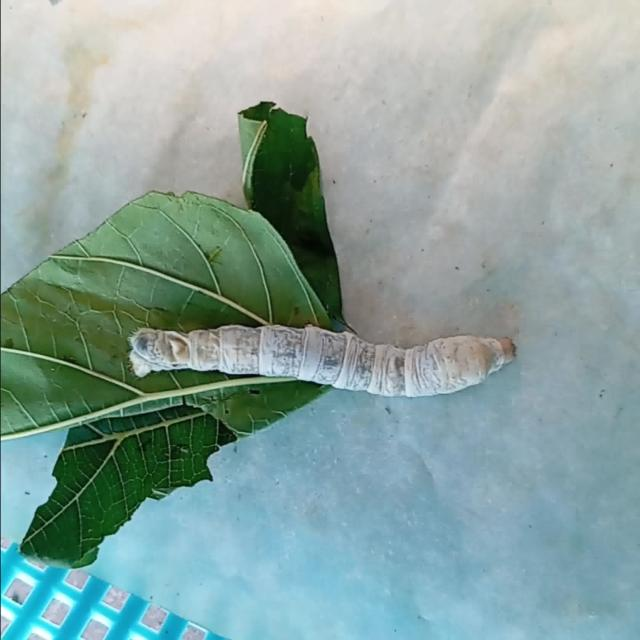Grasserie: (114, 277, 540, 438)
